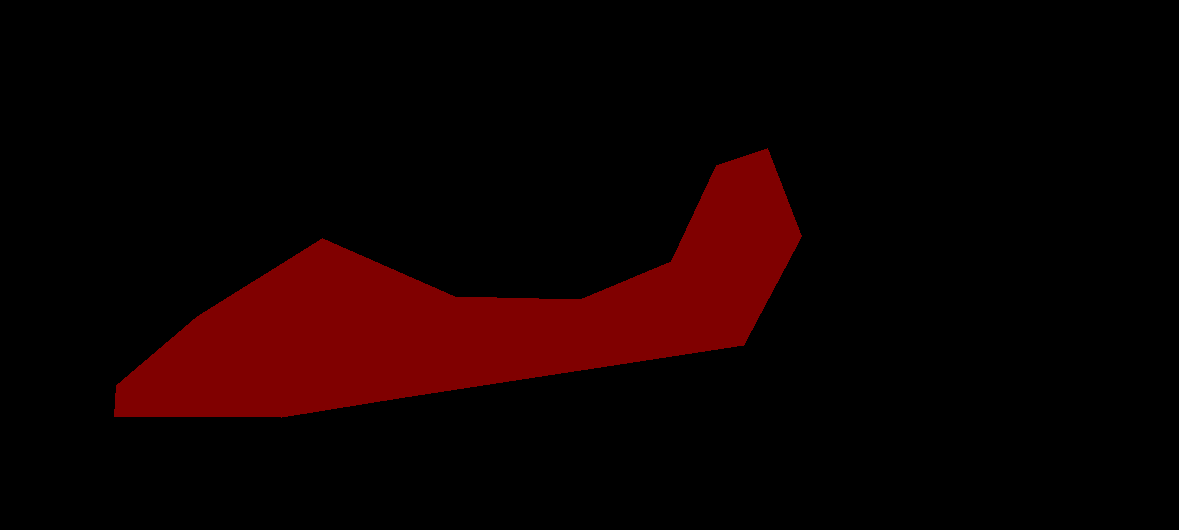fire: (114, 148, 801, 417)
